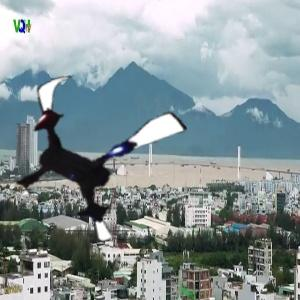drone: (3, 62, 192, 251)
